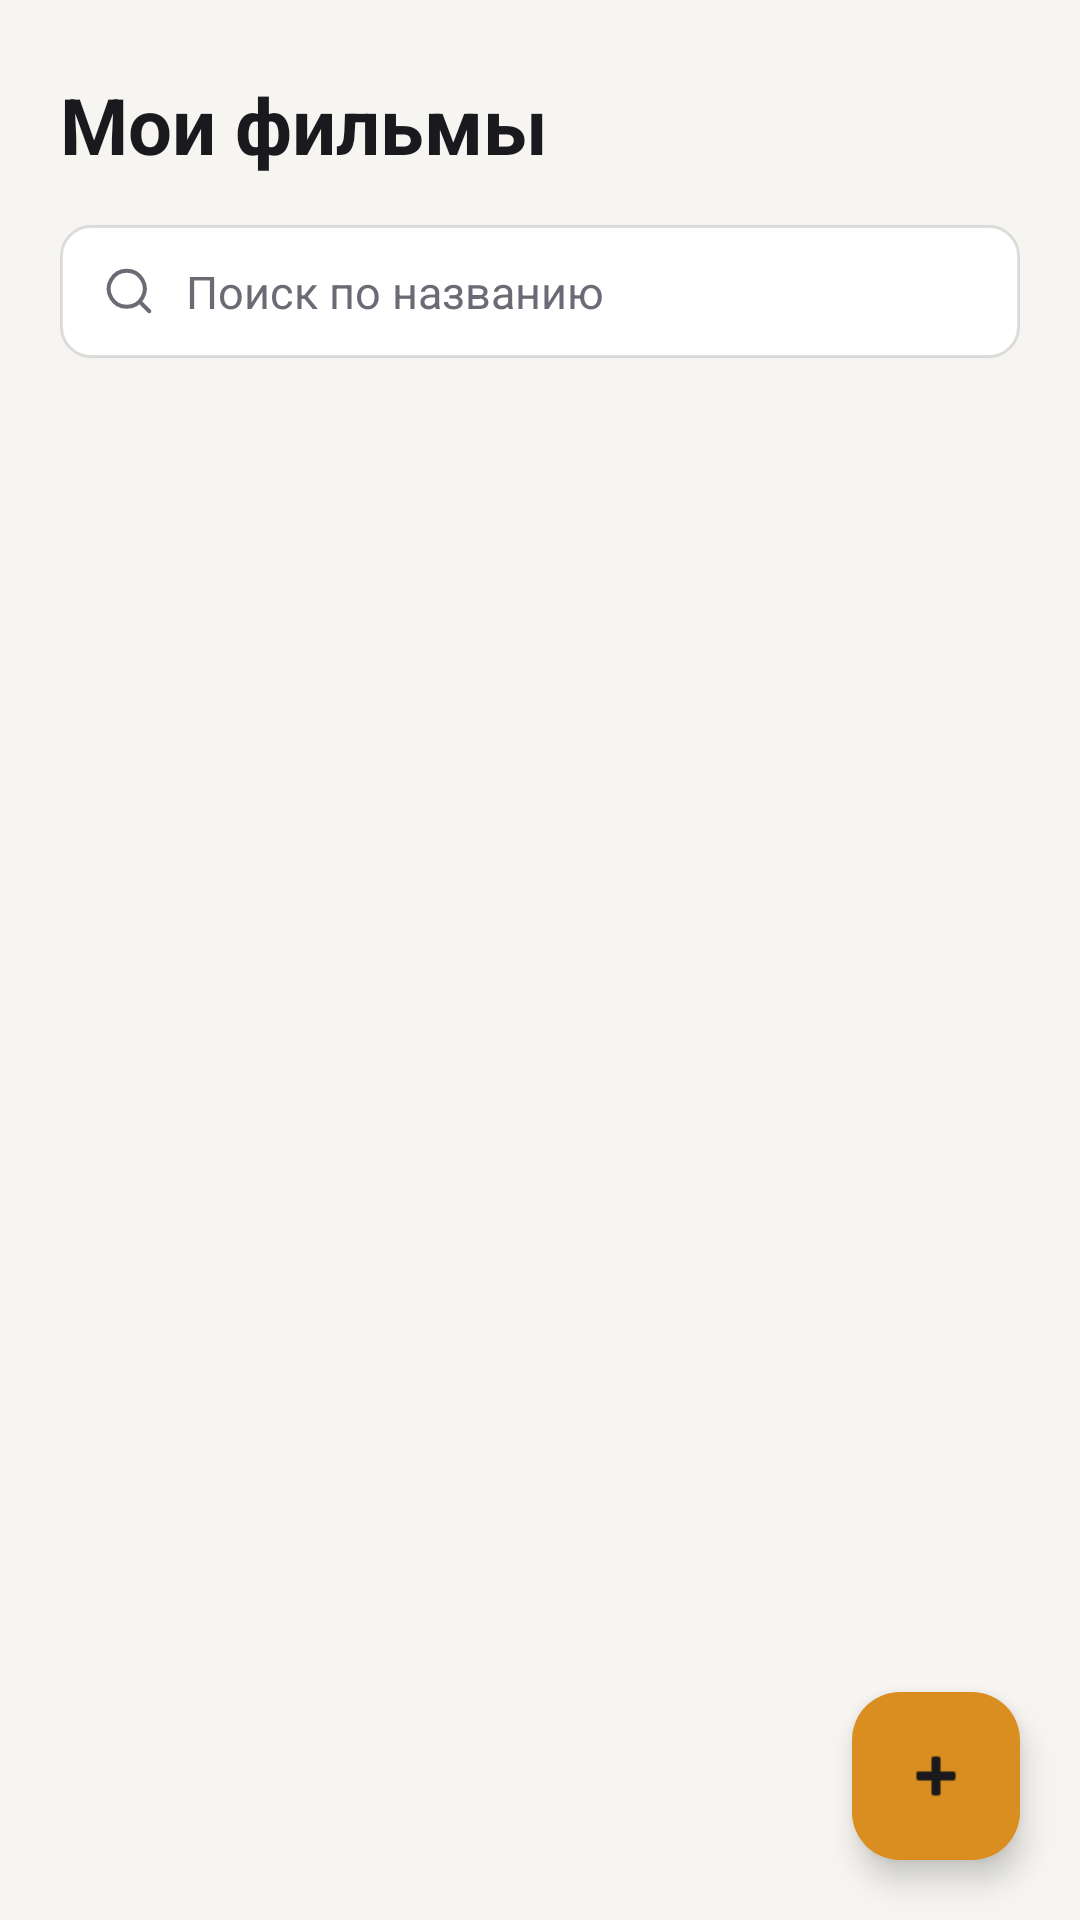

Screen size 1080px×1920px. Icon name, then its center in pixels as point (x, y):
add: point (936, 1776)
search: point (129, 291)
